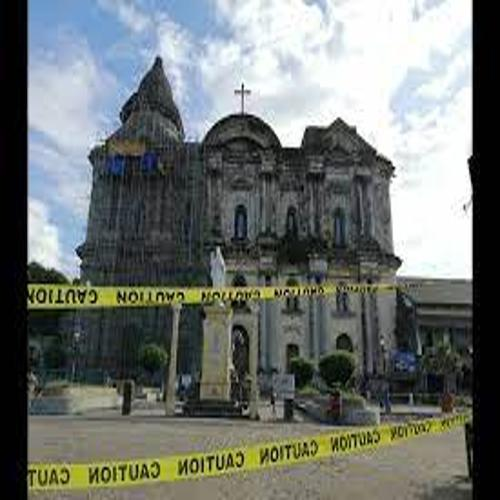Taal Basilica Church: (78, 50, 401, 411)
